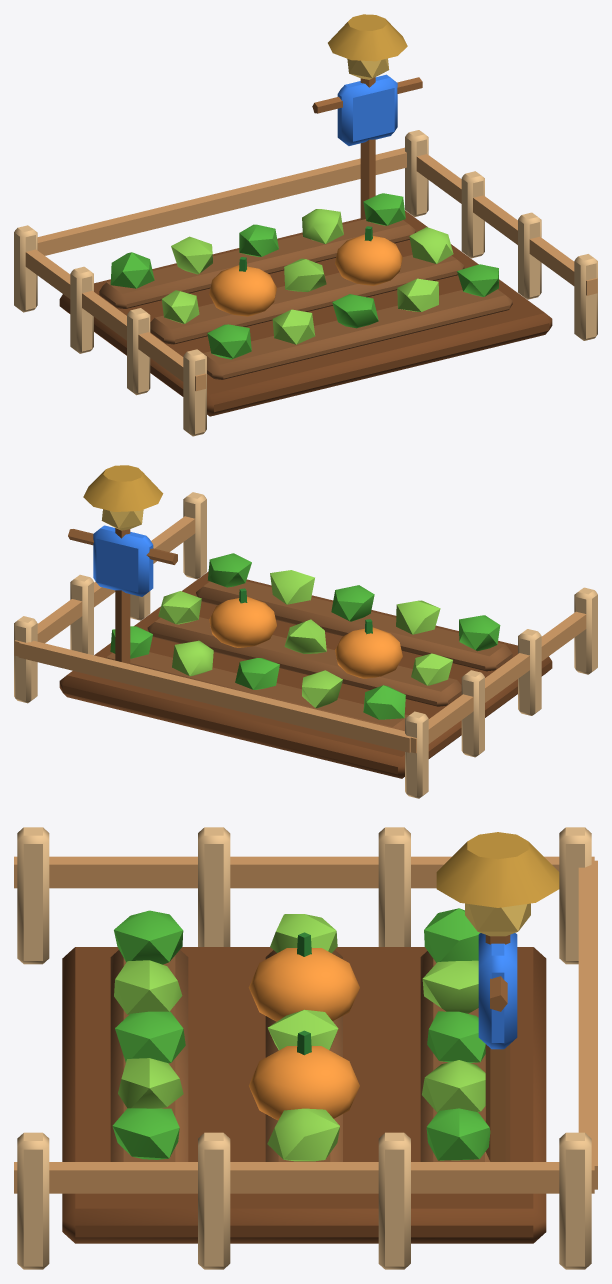
The model's file is home_garden.fbx.
The picture shows the model from 3 angles, top to bottom: view 1: azimuth 30°, elevation 25°; view 2: azimuth 150°, elevation 25°; view 3: azimuth 270°, elevation 25°; orthographic projection. The views are drawn at different scales.
Parts seen in each view (by area): view 1: home_garden; view 2: home_garden; view 3: home_garden.
Part boxes in pixels (bbox=[...]): home_garden: bbox=[14, 14, 597, 436]; home_garden: bbox=[14, 465, 597, 798]; home_garden: bbox=[14, 827, 597, 1269].
Bounding box in the file's own units: 1.17 × 0.62 × 0.905.
